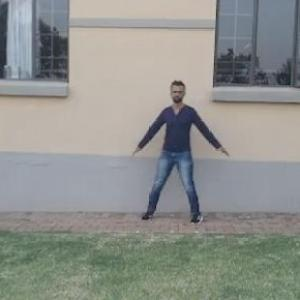land: (132, 84, 231, 234)
